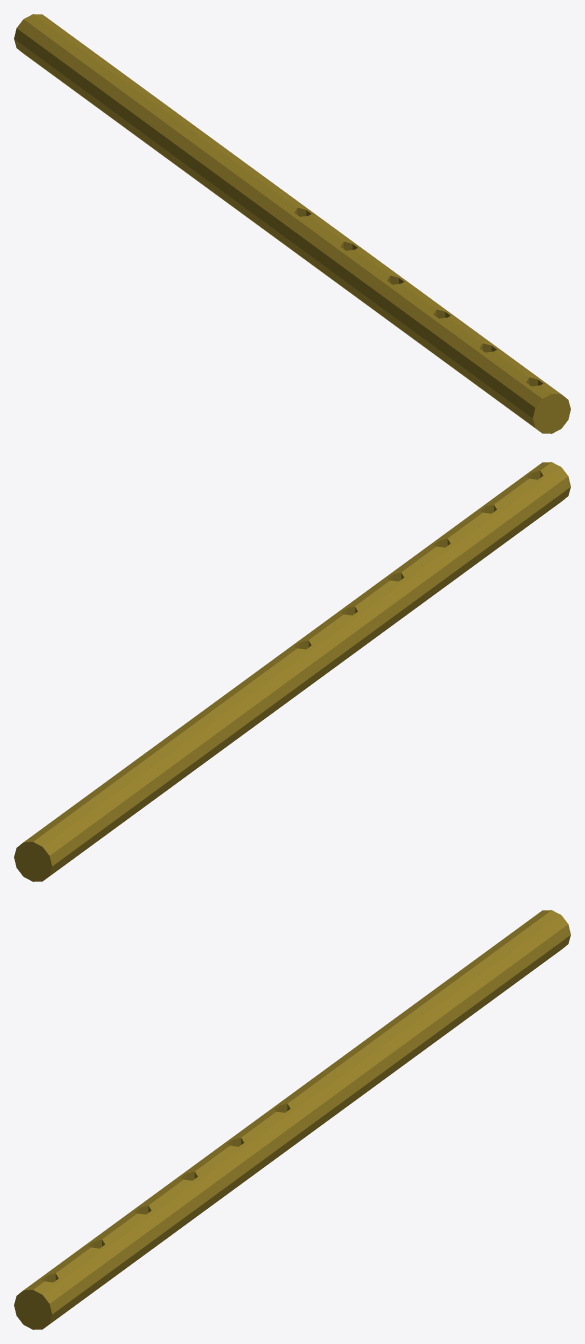
The model's file is FluteUV.fbx.
3 renders of one model, top to bottom at view 1: azimuth 30°, elevation 25°; view 2: azimuth 150°, elevation 25°; view 3: azimuth 330°, elevation 25°, orthographic.
Parts seen in each view (by area): view 1: Cylinder; view 2: Cylinder; view 3: Cylinder.
Part boxes in pixels (left/top/right/bottom): Cylinder: left=14, top=14, right=570, bottom=433; Cylinder: left=14, top=462, right=570, bottom=881; Cylinder: left=14, top=910, right=570, bottom=1329.
Bounding box in the file's own units: 3.53 × 3.53 × 83.01.
